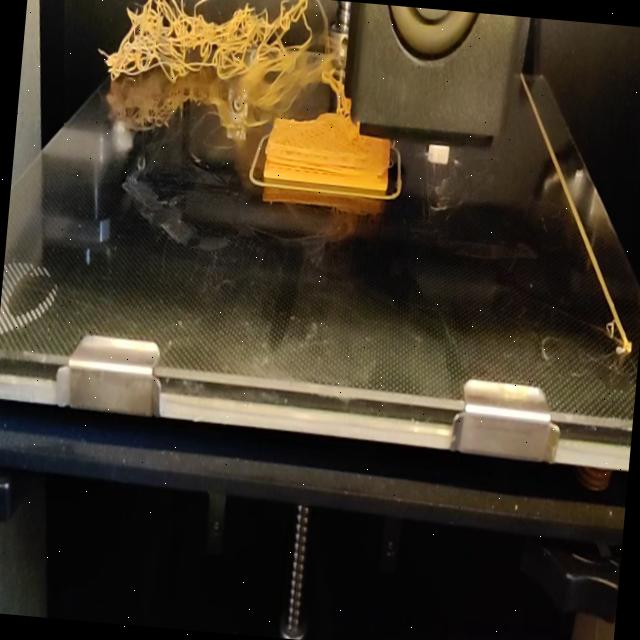spaghetti: (95, 0, 337, 105)
